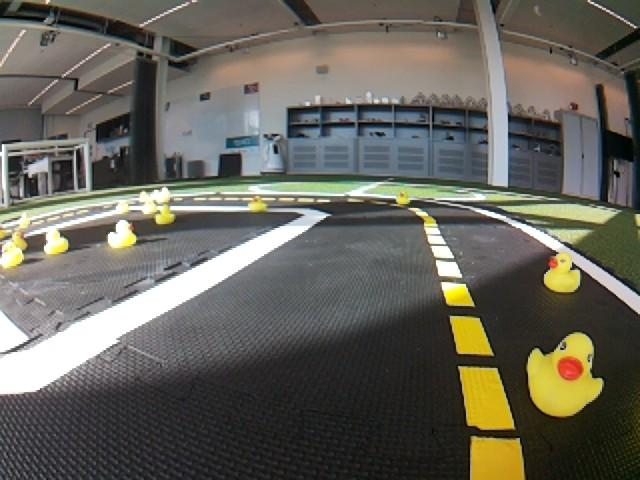Duckies: (526, 332, 603, 418), (542, 251, 579, 293), (107, 221, 136, 250), (44, 230, 68, 255), (0, 243, 23, 267), (155, 205, 176, 225), (11, 232, 28, 251), (248, 195, 268, 211), (158, 186, 172, 203), (396, 192, 409, 205)
